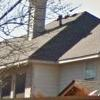Chimney: (21, 2, 48, 45)
